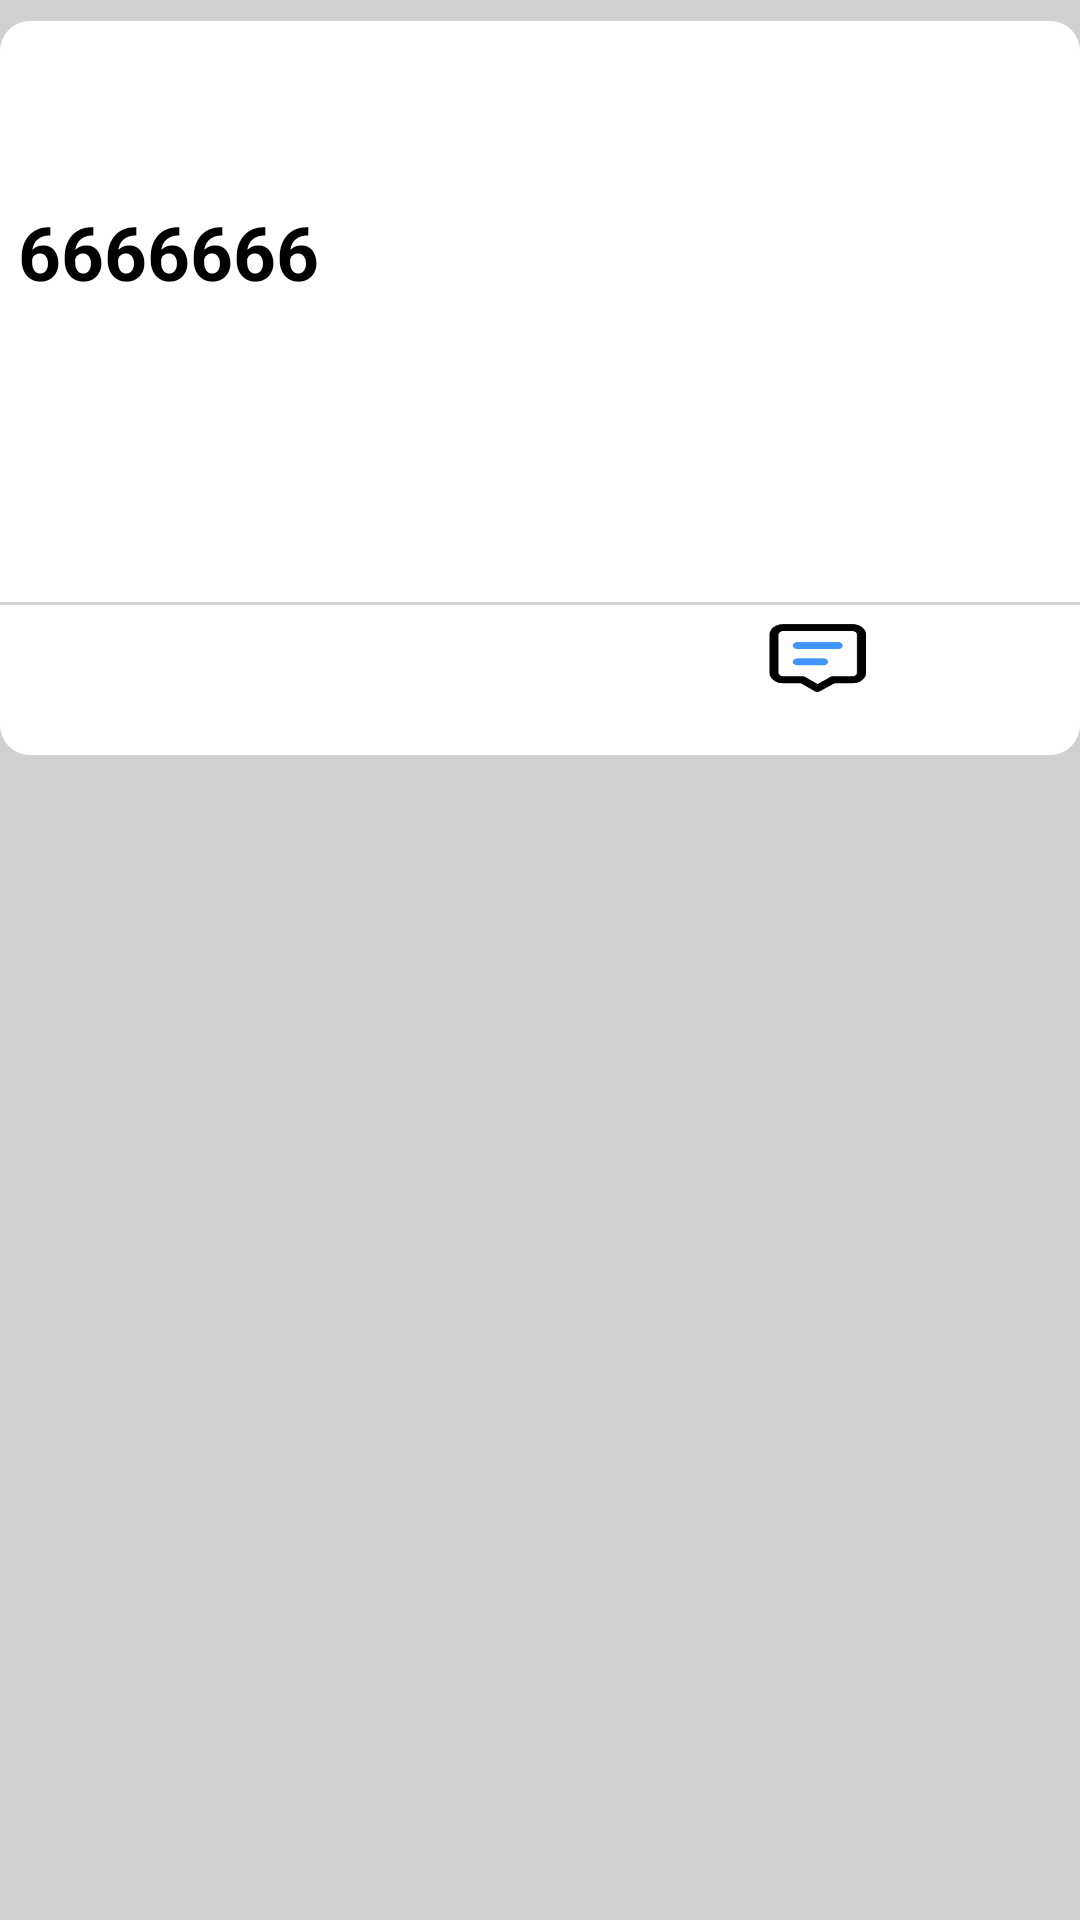

Locate icon controls on the screen. Image size 1080 x 1920, boxes as (x1, y1, x2, y2).
comment: (769, 624, 866, 692)
